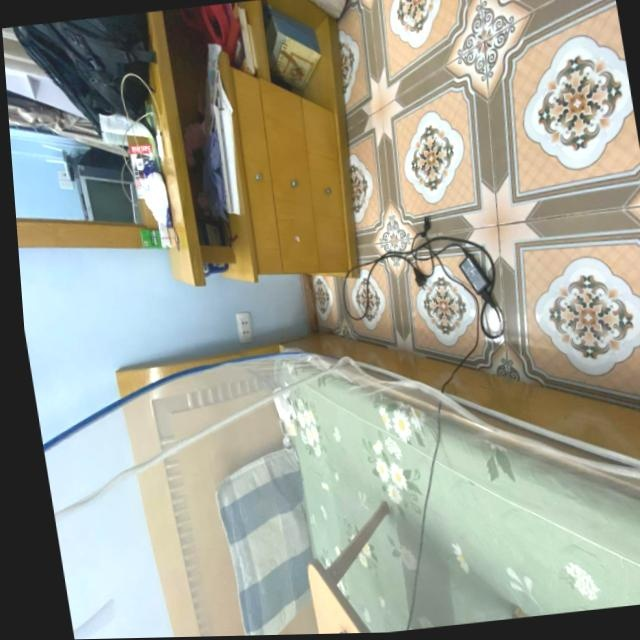outlet: (233, 311, 255, 342)
